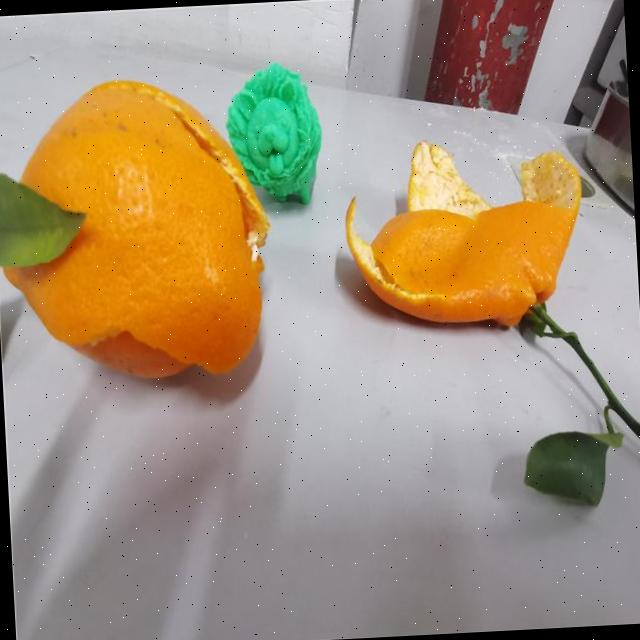orange-peel: (0, 70, 278, 388)
